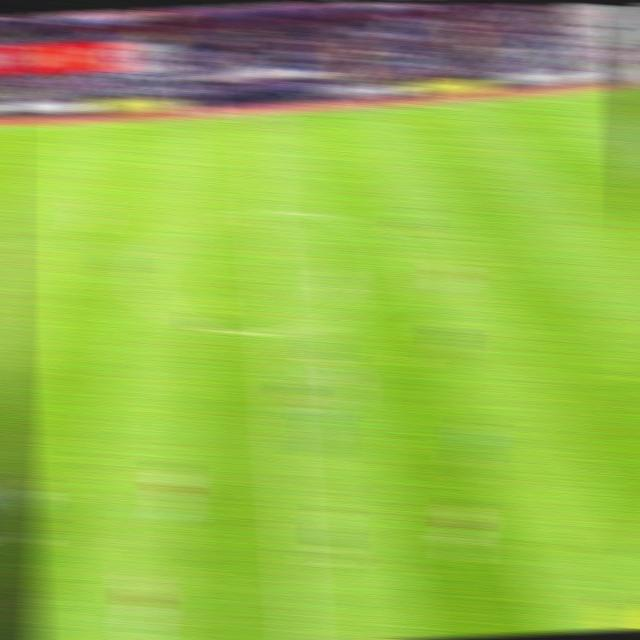halfcircle_bottom: (254, 312, 298, 349)
halfcircle_top: (244, 197, 287, 227)
midline_top_intersection: (239, 101, 278, 130)
